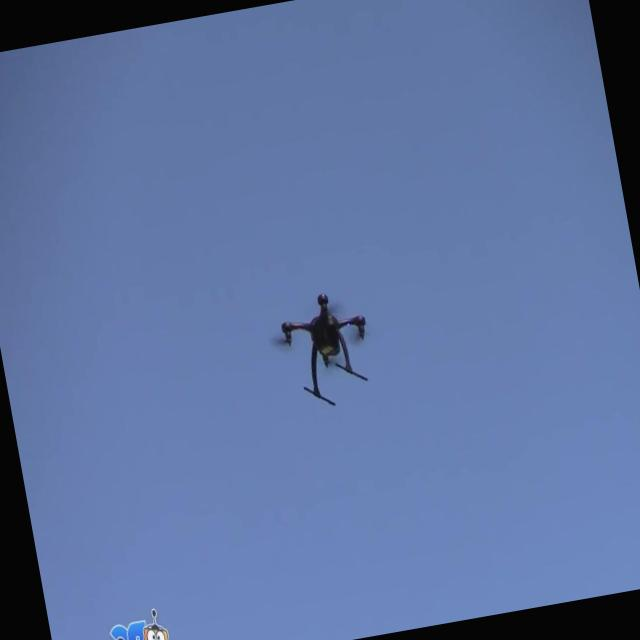drone: (274, 281, 382, 416)
